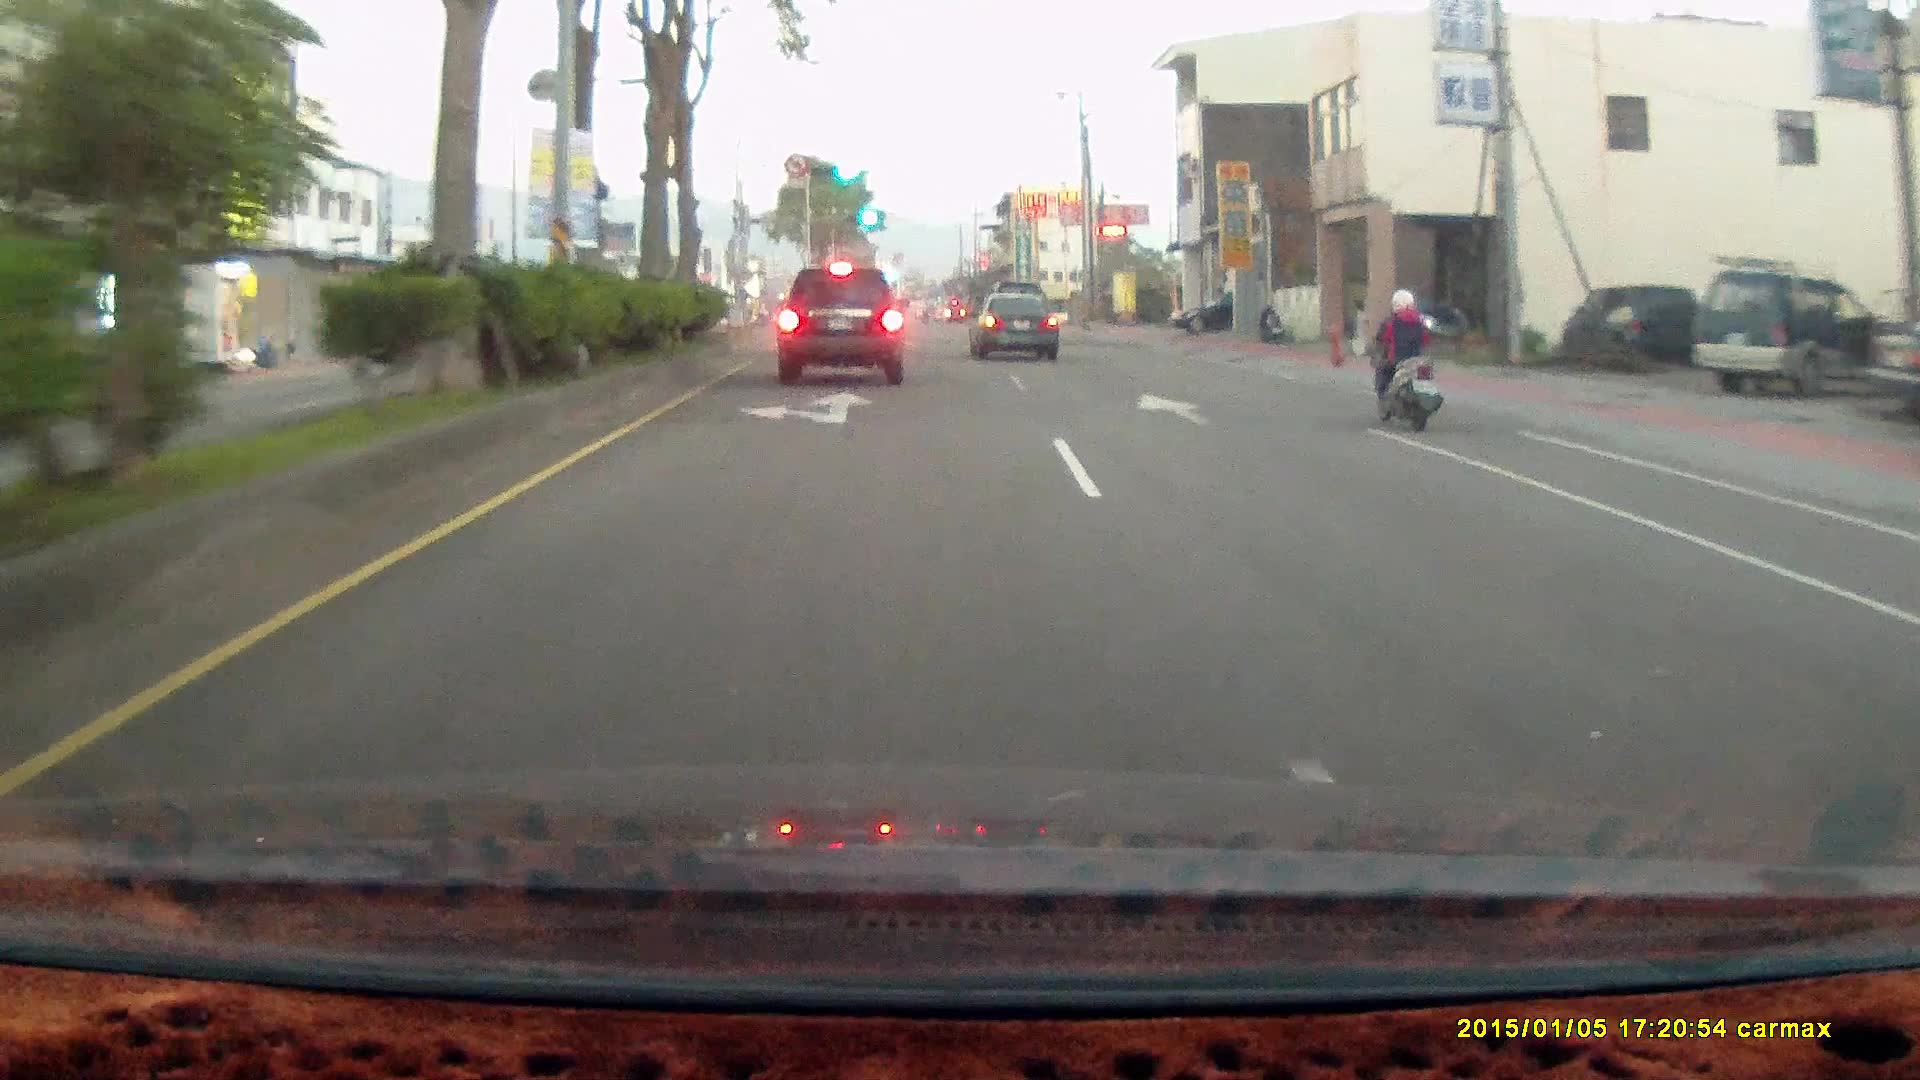rider: (1354, 275, 1457, 442), (1364, 284, 1442, 428)
vehicle: (1688, 269, 1897, 398), (1698, 272, 1875, 398), (774, 255, 912, 380), (776, 265, 908, 385), (1563, 281, 1699, 372), (1562, 284, 1700, 370), (967, 293, 1063, 363), (970, 291, 1057, 356), (1169, 290, 1277, 335), (1169, 289, 1237, 338)
